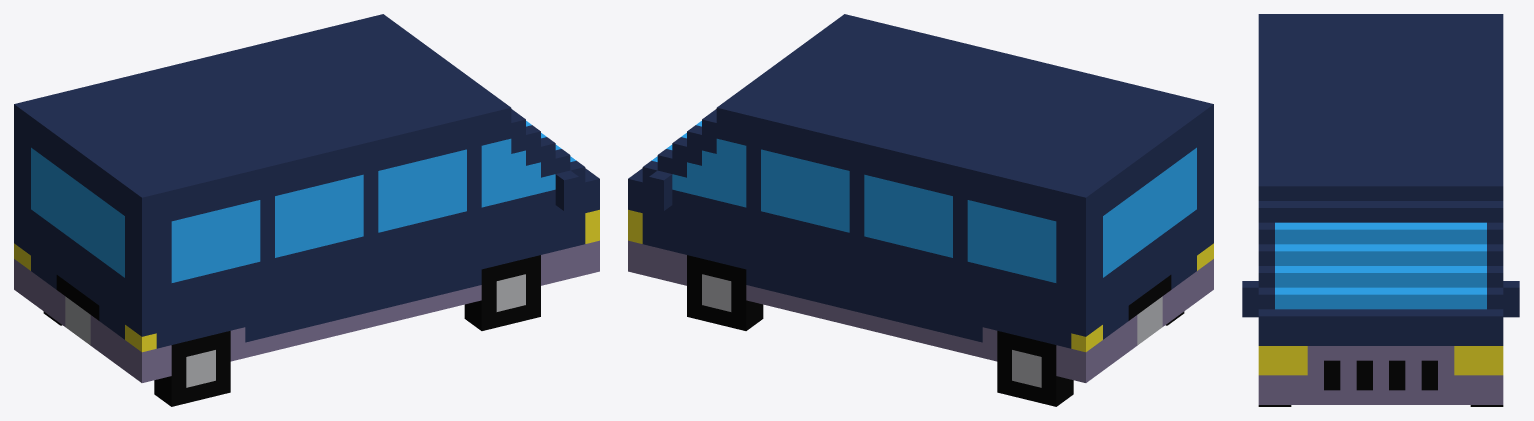
The model's file is van_c.obj.
3 renders of one model, left to right at view 1: azimuth 30°, elevation 25°; view 2: azimuth 150°, elevation 25°; view 3: azimuth 270°, elevation 25°, orthographic. The views are drawn at different scales.
Bounding box in the file's own units: 3.1 × 1.4 × 1.7.
1 material, 1 textured.
